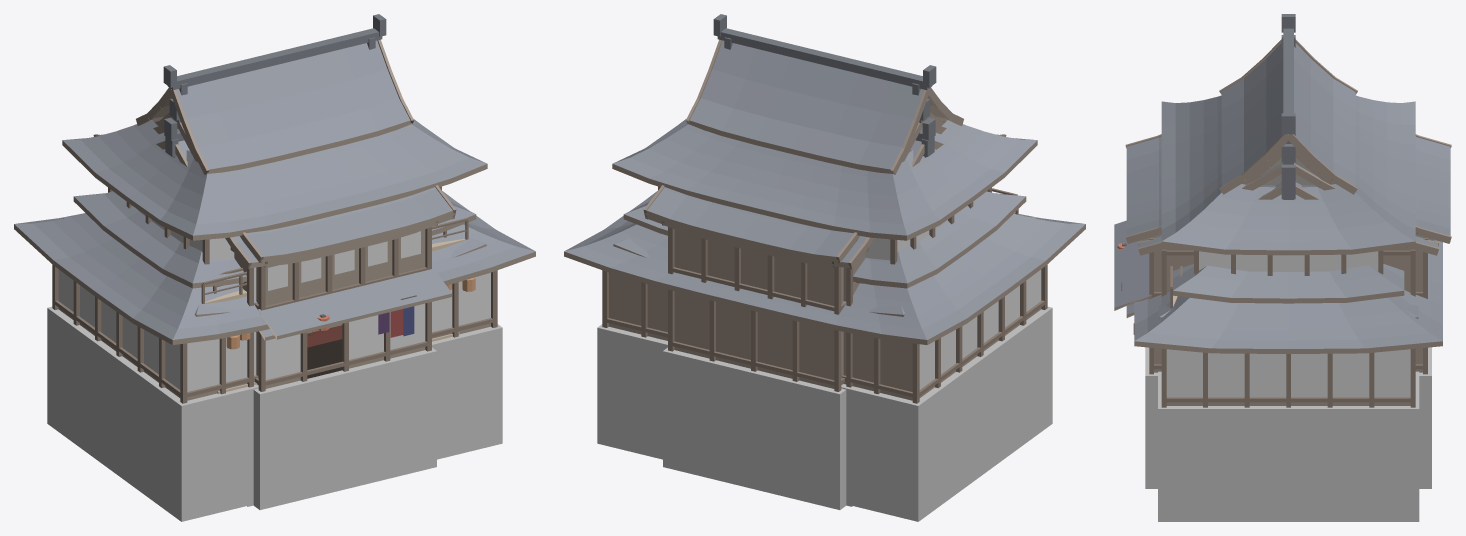
File: houses.glb
3 views of the same model, side by side, from view 1: azimuth 30°, elevation 25°; view 2: azimuth 150°, elevation 25°; view 3: azimuth 270°, elevation 25° (orthographic). The views are drawn at different scales.
Parts seen in each view (by area): view 1: House_inn_1_LOD0, House_machiya_1_LOD0, House_stilt_1_LOD0, House_machiya_3_LOD0, House_machiya_0_LOD0, House_minka_1_LOD0; view 2: House_inn_1_LOD0, House_machiya_1_LOD0, House_stilt_1_LOD0, House_machiya_3_LOD0, House_minka_1_LOD0; view 3: House_inn_1_LOD0, House_machiya_1_LOD0, House_stilt_1_LOD0, House_machiya_3_LOD0, House_inn_0_LOD0, House_minka_1_LOD0.
Boxes of the visible parts, x1=… form: House_inn_1_LOD0: x1=14, y1=14, x2=535, y2=521; House_machiya_1_LOD0: x1=93, y1=98, x2=456, y2=509; House_stilt_1_LOD0: x1=73, y1=191, x2=476, y2=288; House_machiya_3_LOD0: x1=156, y1=117, x2=454, y2=506; House_machiya_0_LOD0: x1=264, y1=221, x2=438, y2=337; House_minka_1_LOD0: x1=63, y1=136, x2=486, y2=393; House_inn_1_LOD0: x1=564, y1=14, x2=1085, y2=521; House_machiya_1_LOD0: x1=643, y1=98, x2=1006, y2=509; House_stilt_1_LOD0: x1=623, y1=191, x2=1026, y2=288; House_machiya_3_LOD0: x1=645, y1=117, x2=943, y2=506; House_minka_1_LOD0: x1=613, y1=136, x2=1036, y2=316; House_inn_1_LOD0: x1=1133, y1=14, x2=1442, y2=521; House_machiya_1_LOD0: x1=1114, y1=134, x2=1451, y2=488; House_stilt_1_LOD0: x1=1173, y1=264, x2=1404, y2=303; House_machiya_3_LOD0: x1=1126, y1=164, x2=1439, y2=317; House_inn_0_LOD0: x1=1180, y1=35, x2=1335, y2=297; House_minka_1_LOD0: x1=1159, y1=183, x2=1418, y2=318.
Size of what is drawn, in the model's own units: 16.4 by 16.91 by 13.55.
